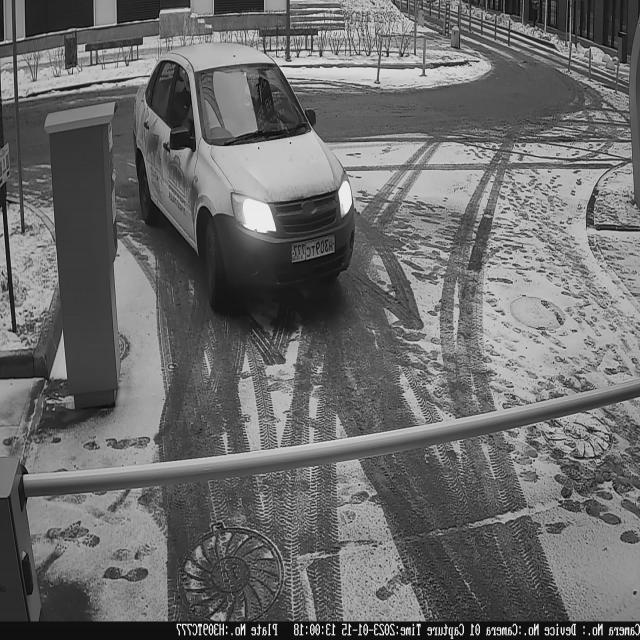car-plate-numbers: (291, 229, 340, 272)
